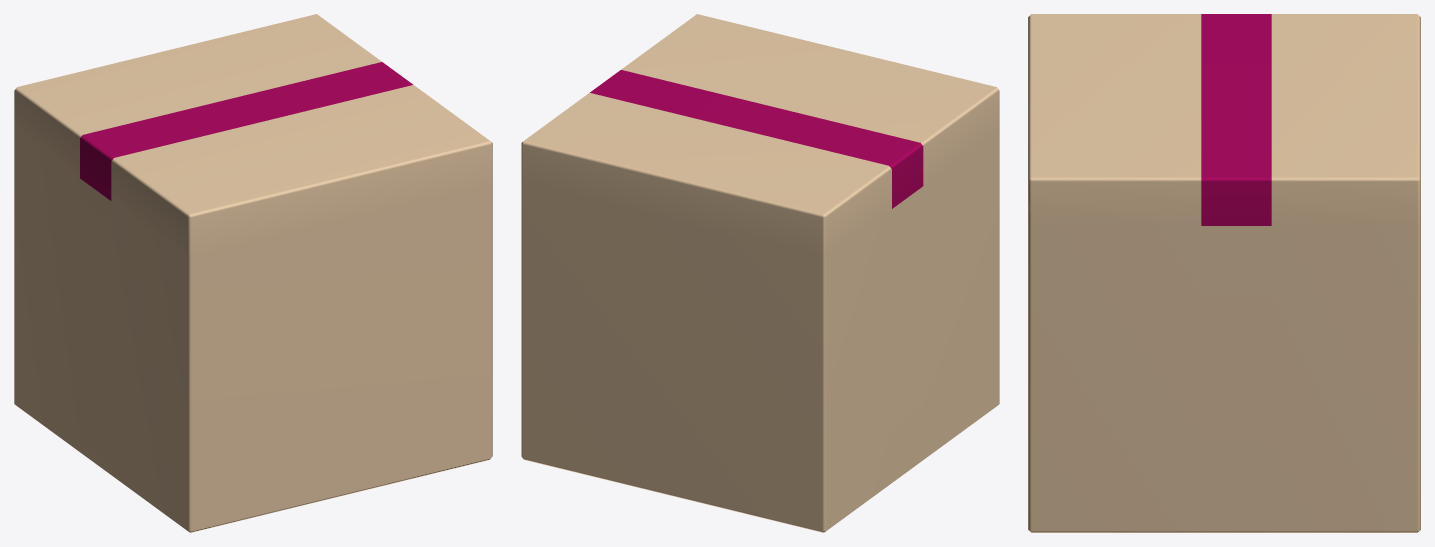
Rendered from Objeto interactuable 1.fbx.
3 views of the same model, side by side, from view 1: azimuth 30°, elevation 25°; view 2: azimuth 150°, elevation 25°; view 3: azimuth 270°, elevation 25° (orthographic). The views are drawn at different scales.
Visible parts, largest first — view 1: objeto_interactuable1; view 2: objeto_interactuable1; view 3: objeto_interactuable1.
Part boxes in pixels (x1,y1,x2,y2): objeto_interactuable1: (14, 14, 492, 532); objeto_interactuable1: (521, 14, 999, 532); objeto_interactuable1: (1028, 14, 1420, 532).
Size of the model in its own units: 21.93 by 21.93 by 21.93.
